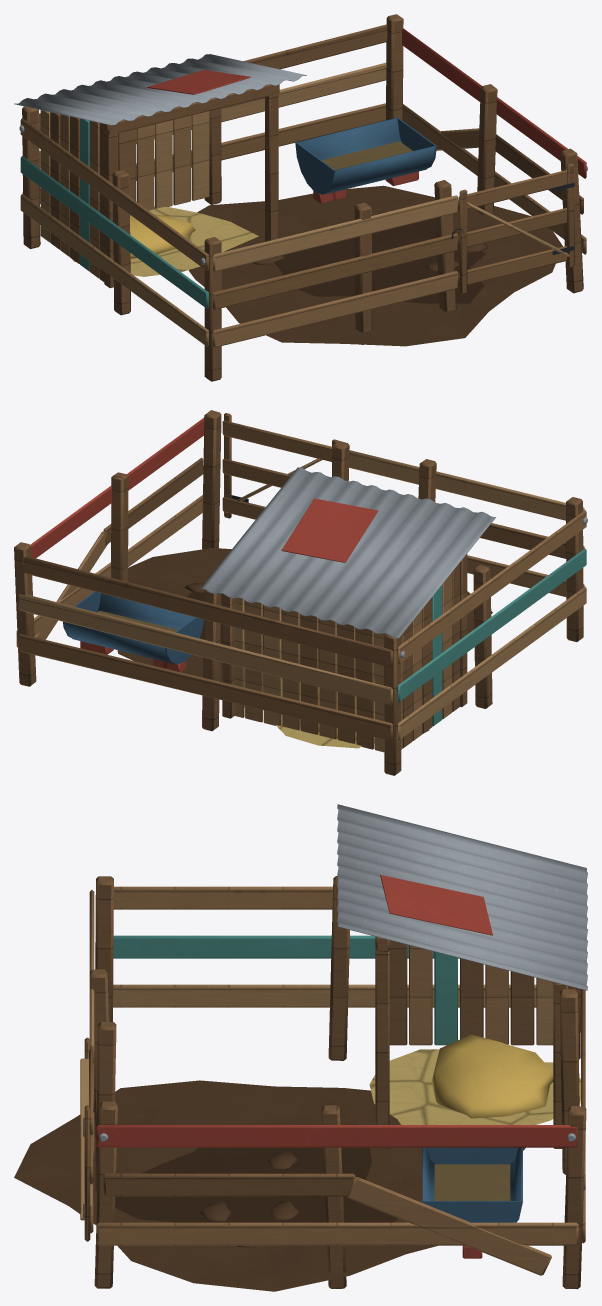
File: pig_pen.glb
The picture shows the model from 3 angles, top to bottom: view 1: azimuth 30°, elevation 25°; view 2: azimuth 150°, elevation 25°; view 3: azimuth 270°, elevation 25°; orthographic projection. The views are drawn at different scales.
Visible parts, largest first — view 1: pig_pen; view 2: pig_pen; view 3: pig_pen.
Part boxes in pixels (left/top/right/bottom): pig_pen: left=14, top=14, right=587, bottom=381; pig_pen: left=14, top=410, right=587, bottom=775; pig_pen: left=14, top=804, right=587, bottom=1291.
Size of the model in its own units: 3.4 by 1.53 by 3.19.
21 materials, 21 textured.
